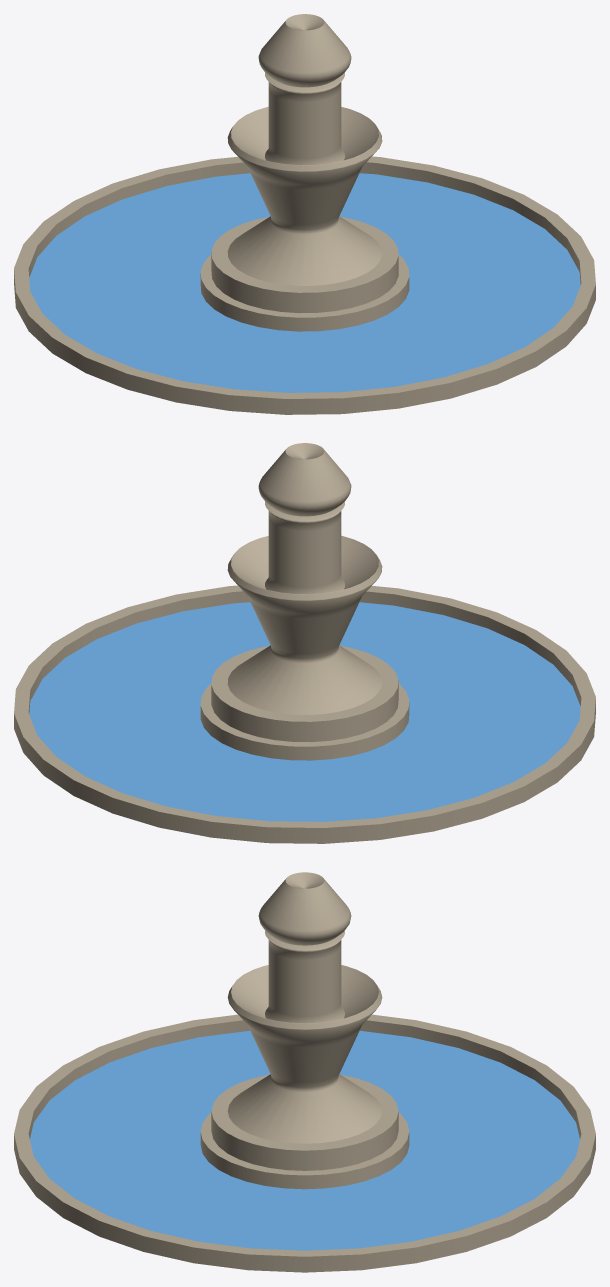
Rendered from Fuente.fbx.
3 renders of one model, top to bottom at view 1: azimuth 30°, elevation 25°; view 2: azimuth 150°, elevation 25°; view 3: azimuth 270°, elevation 25°, orthographic.
Visible parts, largest first — view 1: Cylinder; view 2: Cylinder; view 3: Cylinder.
Boxes of the visible parts, bbox=[...] form: Cylinder: bbox=[14, 14, 595, 414]; Cylinder: bbox=[14, 443, 595, 843]; Cylinder: bbox=[14, 872, 595, 1272].
Size of the model in its own units: 1400 by 1400 by 714.
